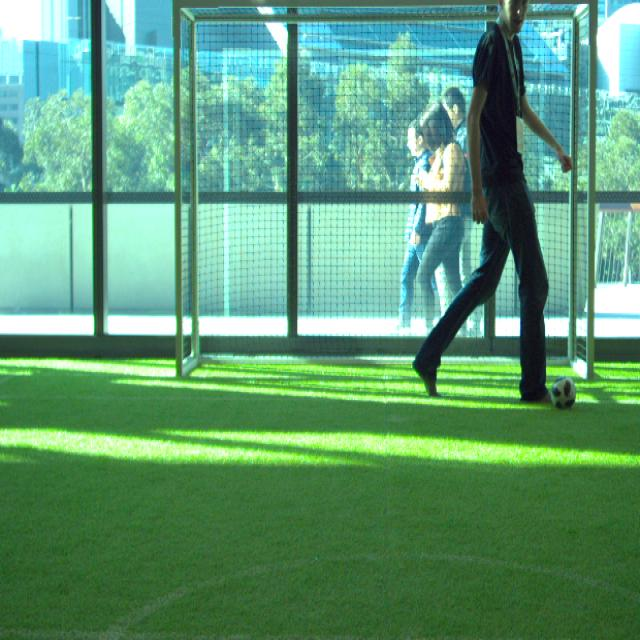ball: (551, 378, 577, 410)
goalpost: (172, 1, 183, 382), (586, 1, 596, 379)
